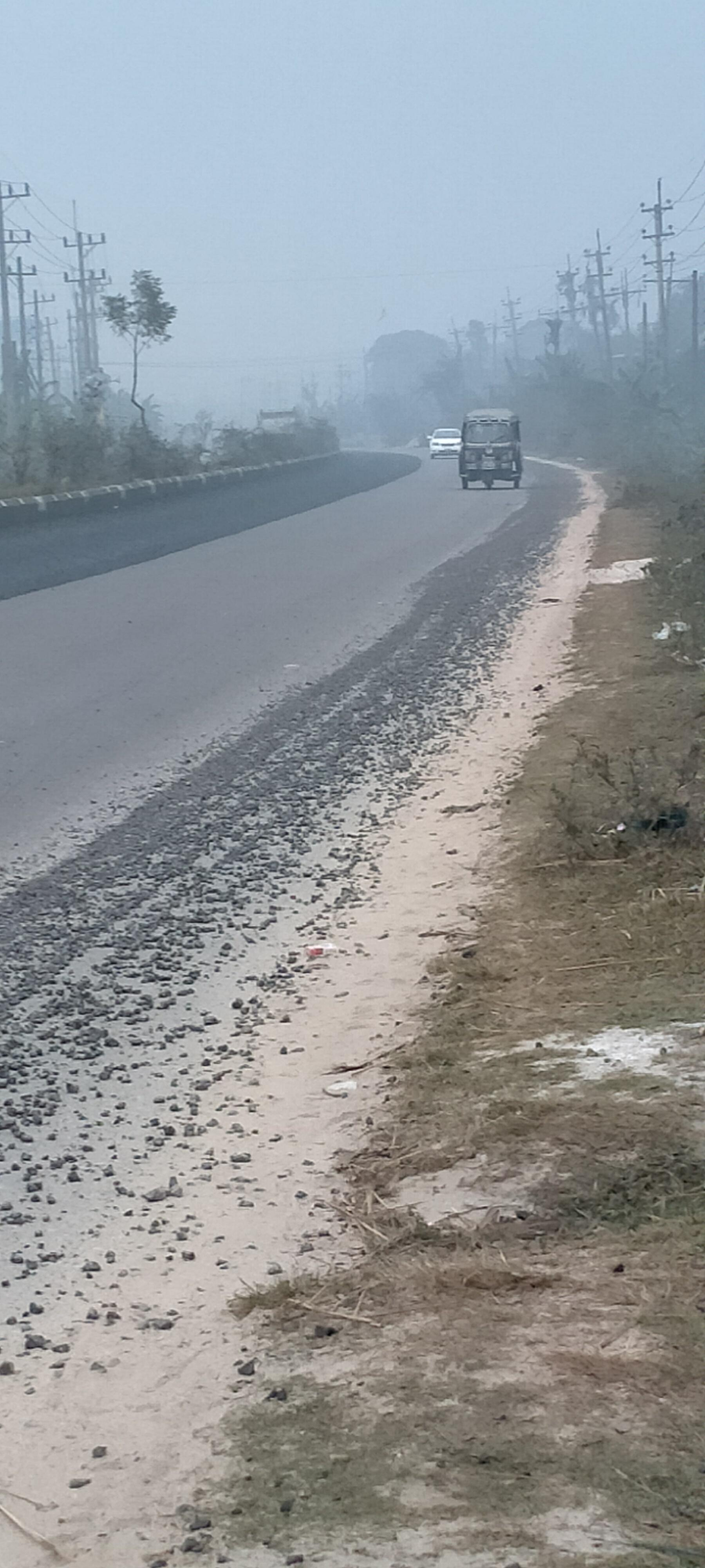Car: (424, 412, 466, 477)
